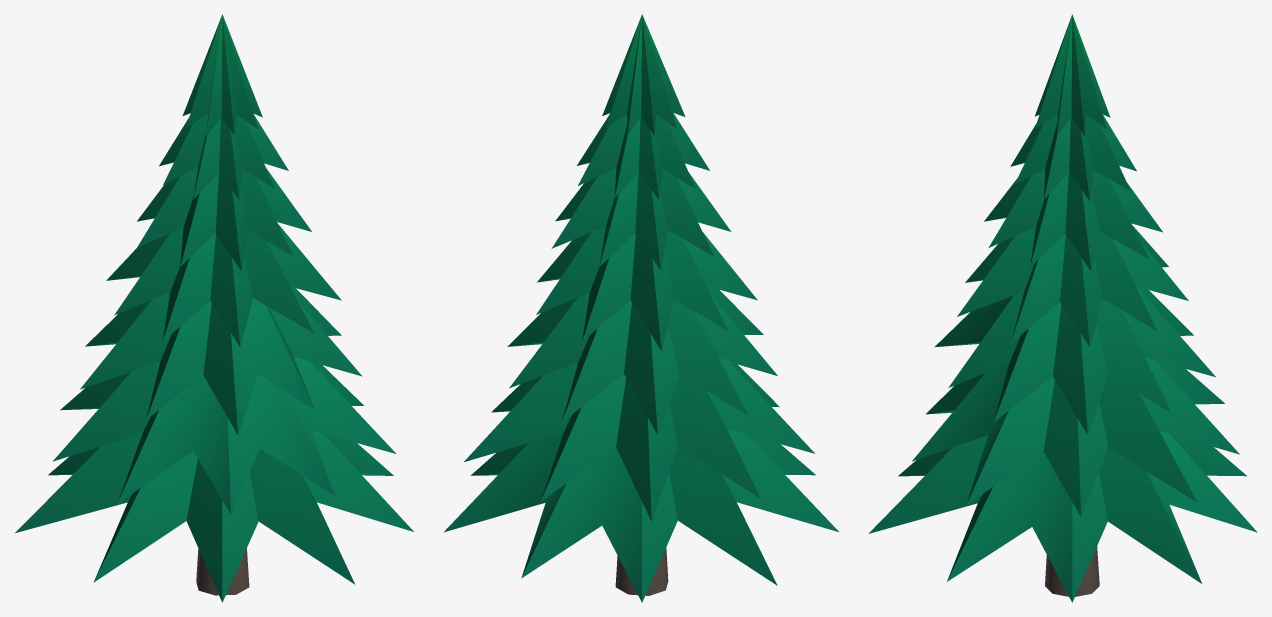
Rendered from pine_dark.glb.
The picture shows the model from 3 angles, left to right: view 1: azimuth 30°, elevation 25°; view 2: azimuth 150°, elevation 25°; view 3: azimuth 270°, elevation 25°; orthographic projection.
Parts seen in each view (by area): view 1: pine_dark; view 2: pine_dark; view 3: pine_dark.
Boxes of the visible parts, left/top/right/bottom form: pine_dark: left=15, top=14, right=413, bottom=602; pine_dark: left=444, top=14, right=838, bottom=602; pine_dark: left=868, top=14, right=1257, bottom=602.
Bounding box in the file's own units: 2.9 × 4.6 × 2.84.
1 material, 1 textured.
